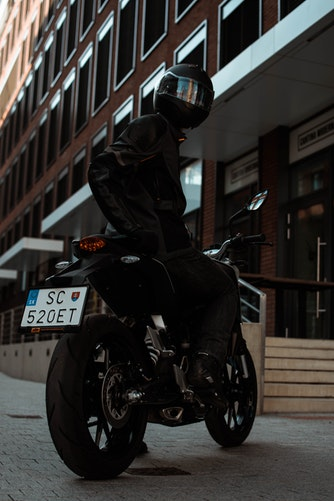helmet: (151, 67, 218, 125)
